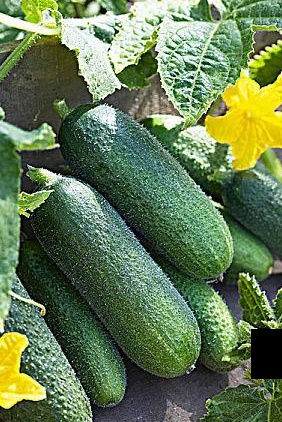cucumber: (31, 178, 192, 369), (70, 106, 231, 280)
cucumber_plant: (58, 2, 274, 103)
